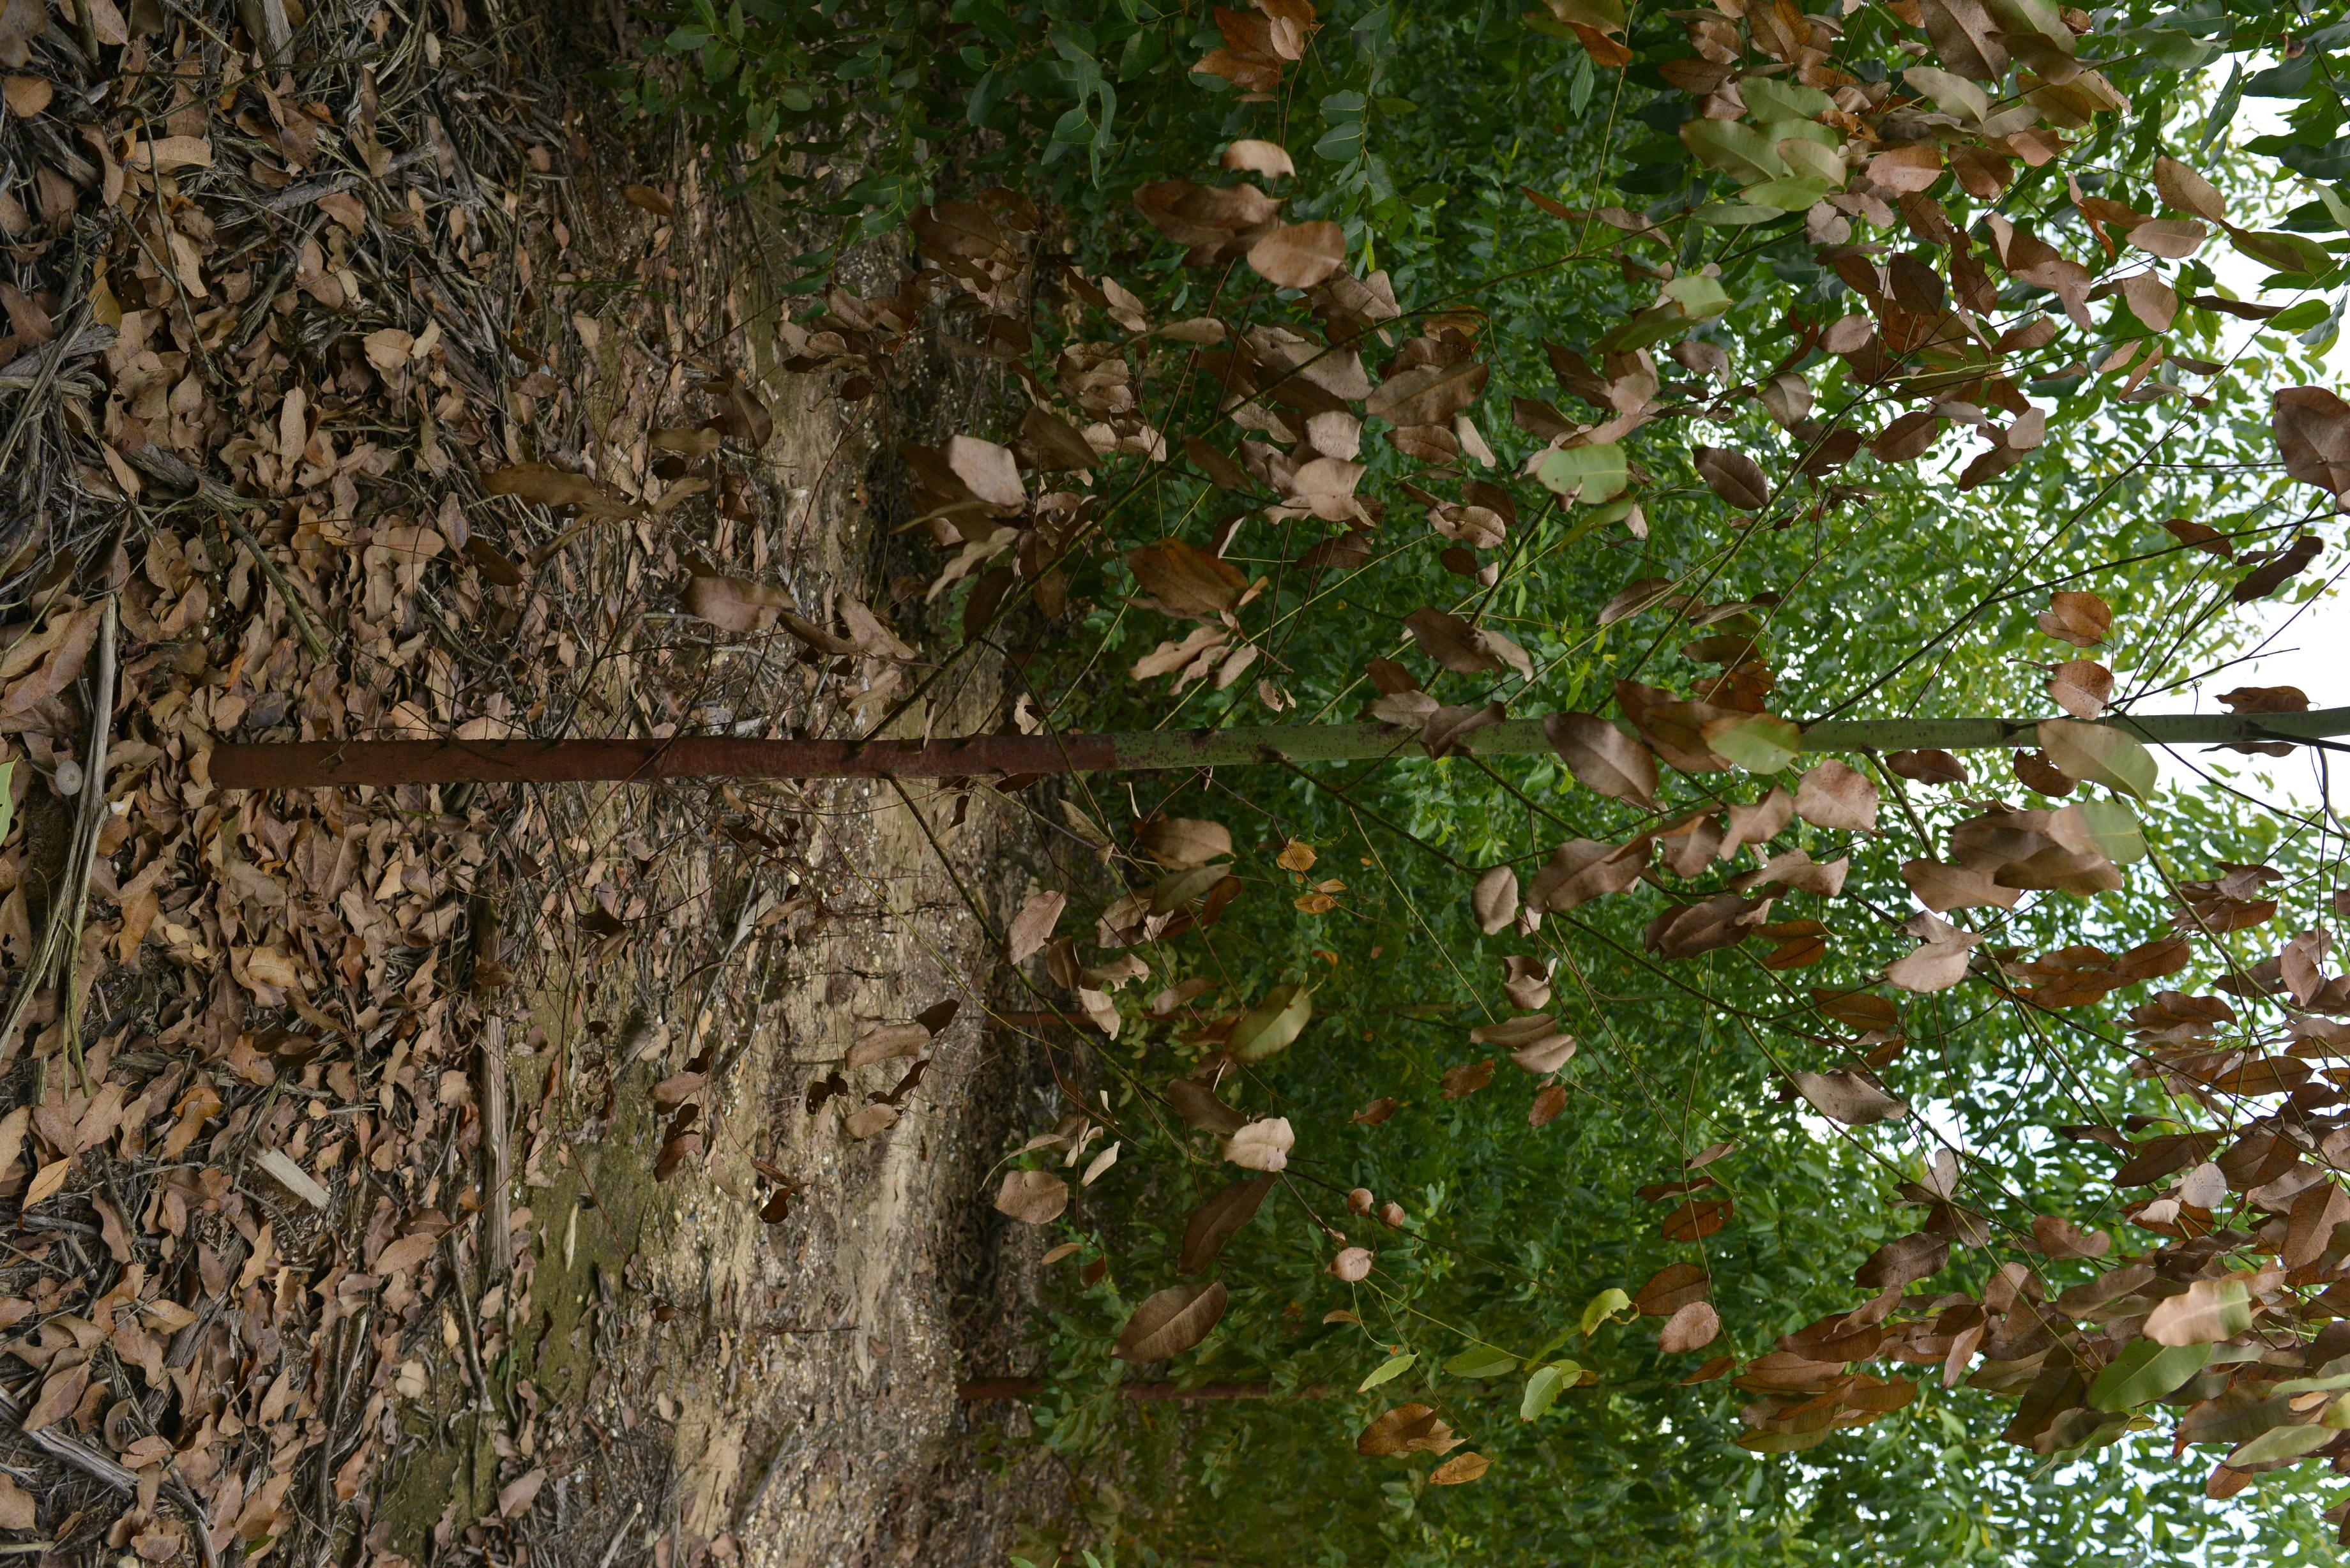Wither Tree Parts: (220, 0, 2350, 1508)
